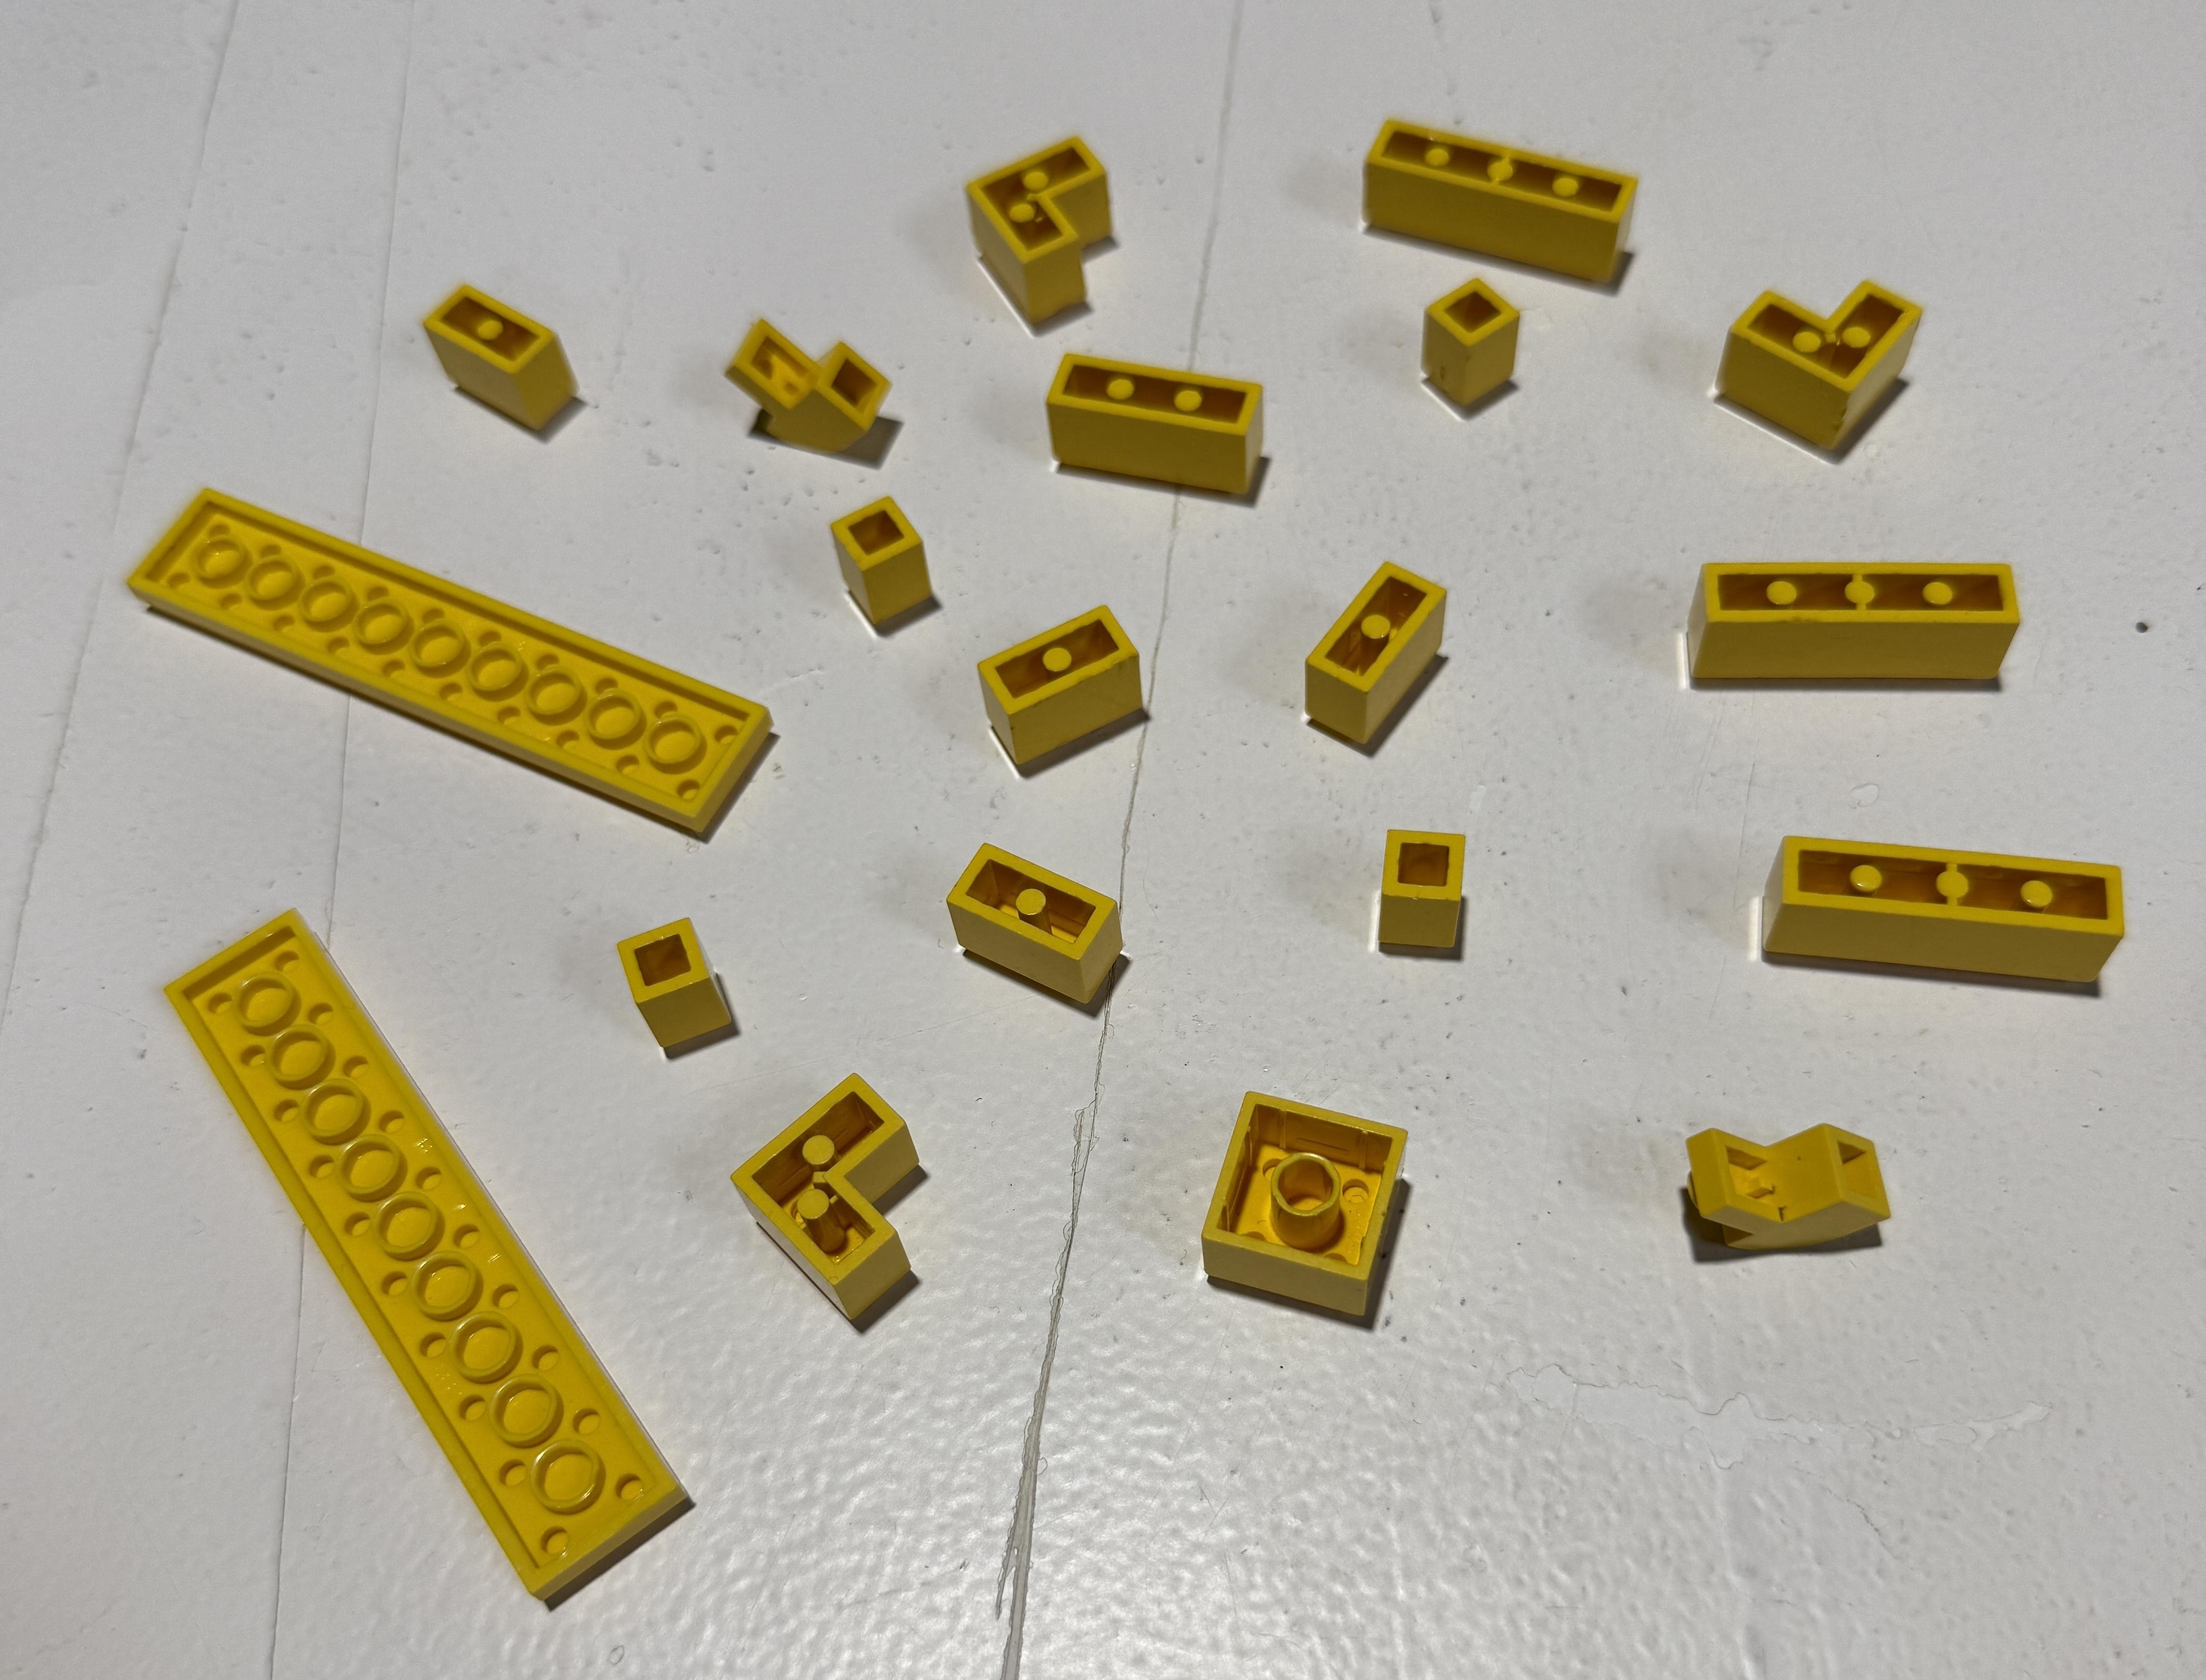brick_1x1: (552, 881, 747, 1076), (1389, 263, 1583, 455), (805, 473, 958, 658), (1366, 782, 1484, 971)
brick_1x2: (1267, 545, 1472, 775), (390, 245, 604, 457), (927, 824, 1142, 1020), (960, 584, 1165, 789)
brick_1x3: (1018, 335, 1288, 521)
brick_1x4: (1735, 819, 2167, 1013), (1338, 102, 1682, 318), (1654, 538, 2022, 716)
brick_2x2: (1181, 1057, 1440, 1355)
